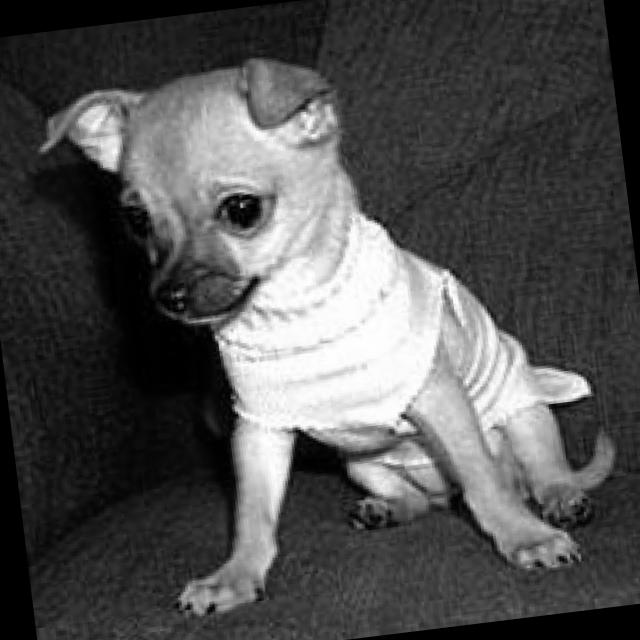sitting: (16, 17, 640, 635)
